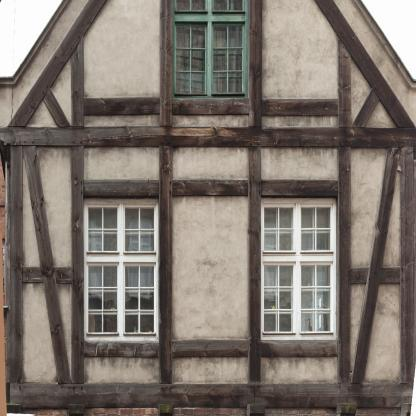Building Outline: (0, 0, 416, 416)
Facade: (5, 76, 416, 416)
Floor: (7, 146, 415, 401)
Floor Slab: (0, 132, 416, 146), (7, 402, 411, 416)
Top Floor: (0, 0, 416, 133)
Window: (262, 196, 337, 342), (84, 196, 159, 342), (172, 1, 248, 98)
